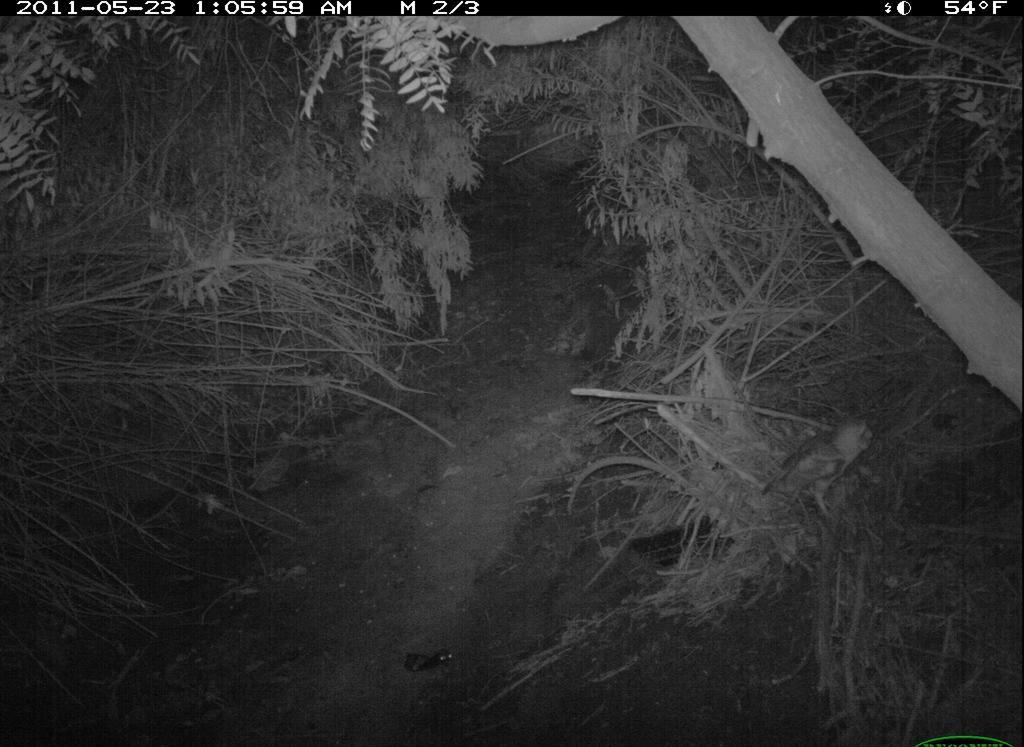bird: (753, 415, 880, 524)
